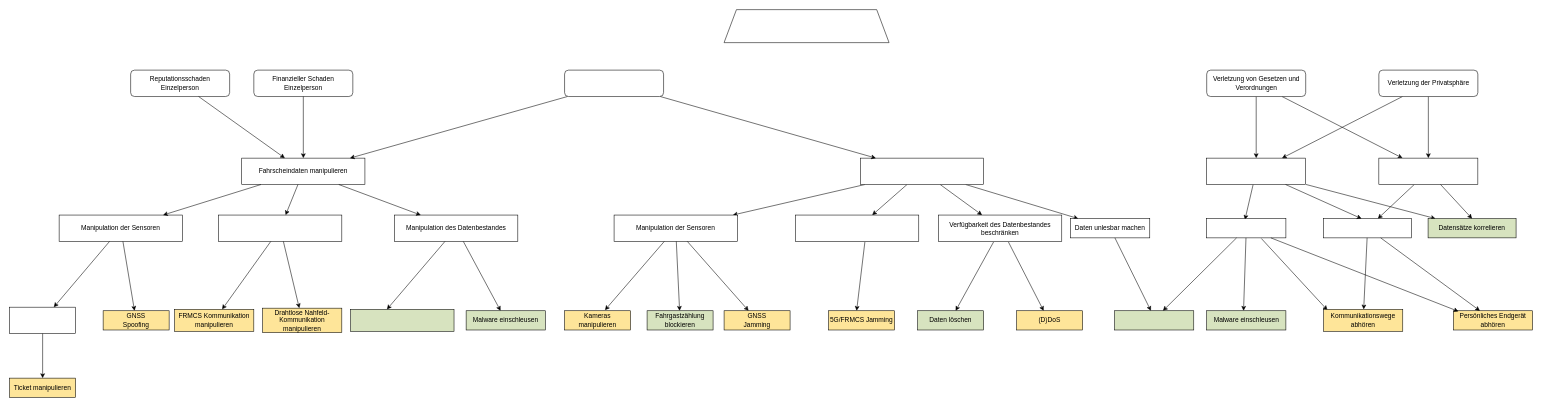
This 1542x407 diagram has some shape labels left out. Each missing label, with the centre of its shape:
"Angriffsziel Kontaklose Fahrscheinkontrolle" belongs at [806,26].
"Aufdeckung privater Daten (Vorlieben, Gewohnheiten)" belongs at [1256,171].
"Daten ausleiten" belongs at [1246,228].
"Einfügen und Ausnutzen von Backdoors" belongs at [402,320].
"Finanzieller Schaden Betreiber" belongs at [614,83].
"Individuellem Nutzer nachstellen" belongs at [1428,171].
"Kommunikation abhören" belongs at [1367,228].
"Manipulation der Übertragung" belongs at [280,228].
"Persönliche Endgeräte manipulieren" belongs at [42,320].
"Ransomware einschleusen" belongs at [1154,320].
"Verfügbarkeit des Dienstes beschränken" belongs at [922,171].
"Verfügbarkeit des Übertragungsnetzwerkes beschränken" belongs at [857,228].
